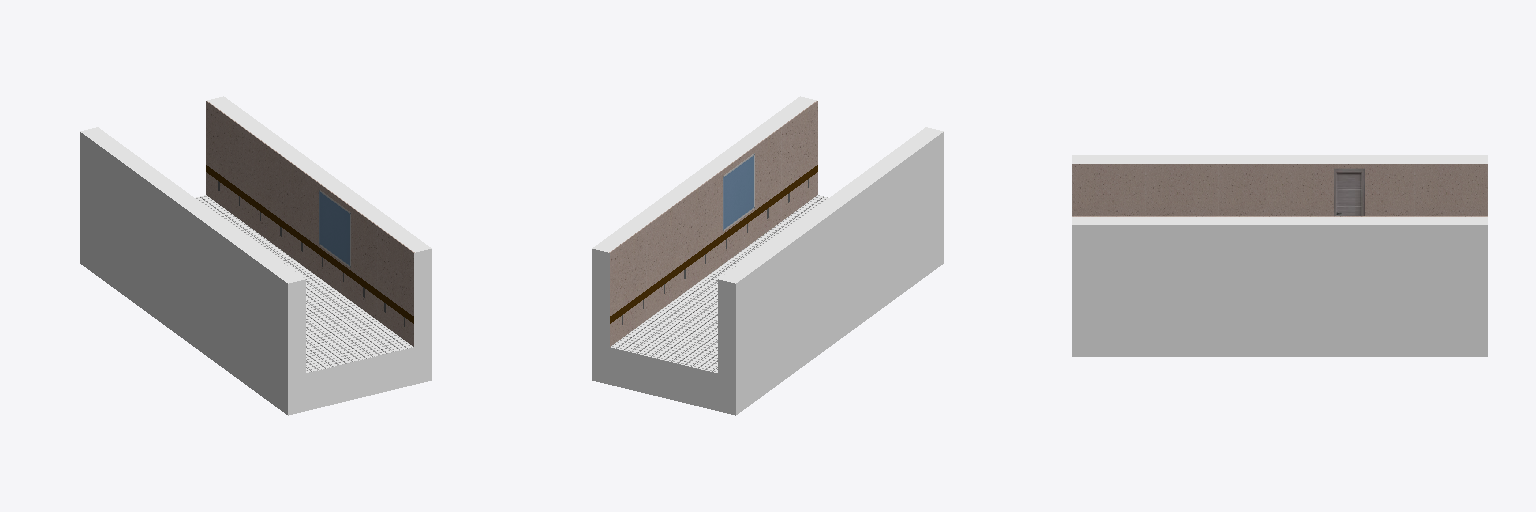
3 renders of one model, left to right at view 1: azimuth 30°, elevation 25°; view 2: azimuth 150°, elevation 25°; view 3: azimuth 270°, elevation 25°, orthographic.
Visible parts, largest first — view 1: Cube.004; view 2: Cube.004; view 3: Cube.004.
Boxes of the visible parts, box(x1,y1,x2,y2) form: Cube.004: box(80, 96, 431, 415); Cube.004: box(592, 96, 943, 415); Cube.004: box(1072, 155, 1487, 356).
Size of the model in its own units: 8 by 7 by 20.
Materials: 1 (1 with a texture image).